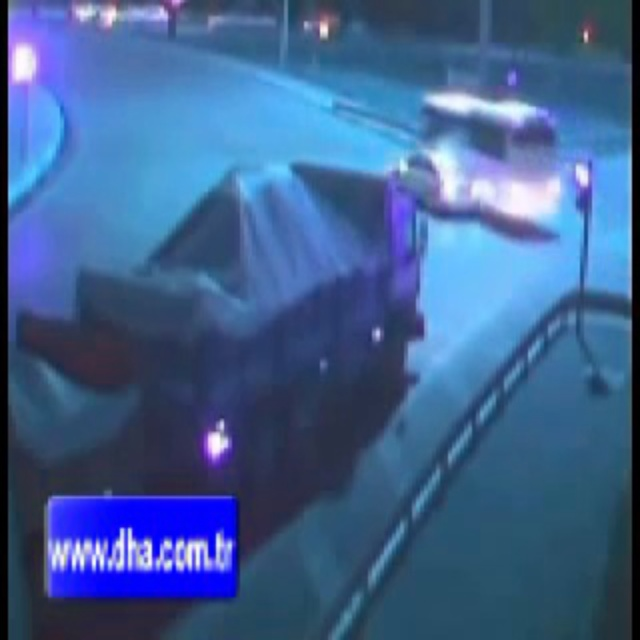acc: (393, 89, 554, 227)
